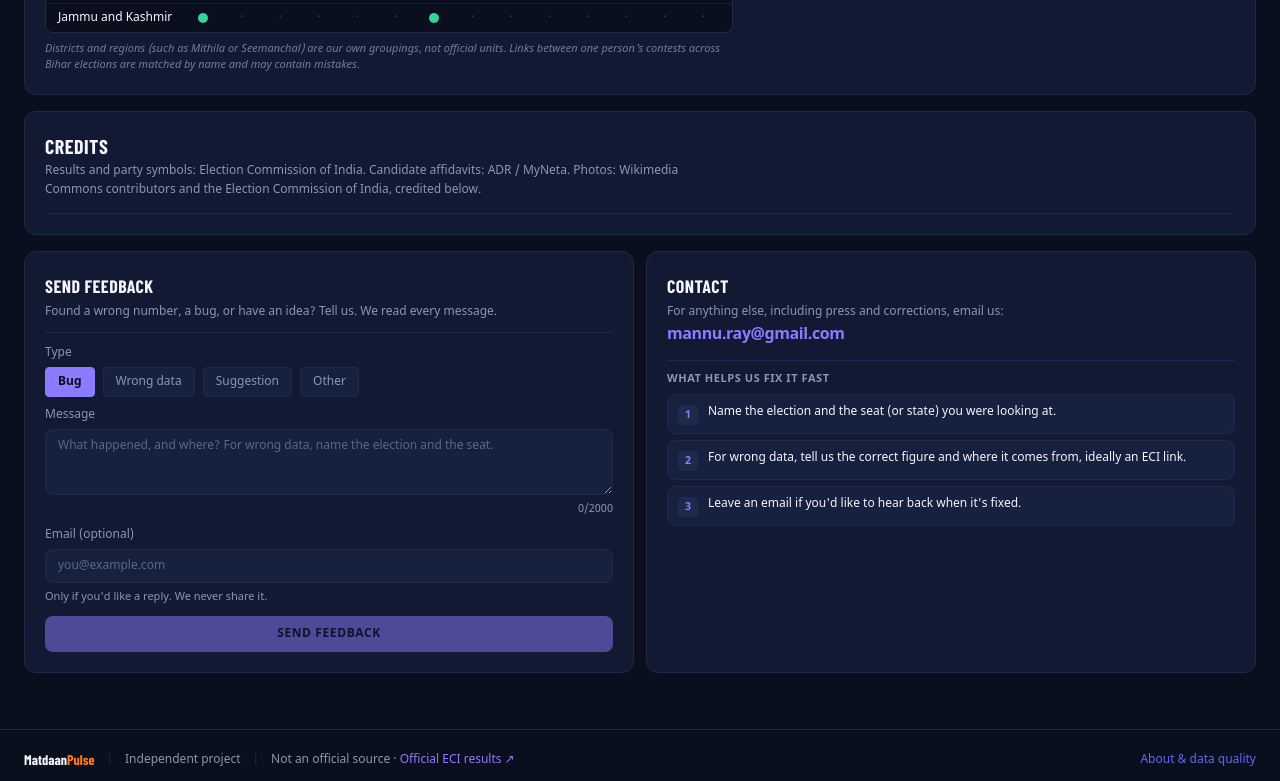
Scenario: About page › explains a rate limit
(page scrolled)
Replace the text in the text box labelled "Message 0/2000" with "Map does not load" at (329, 462), box [45, 428, 613, 494]
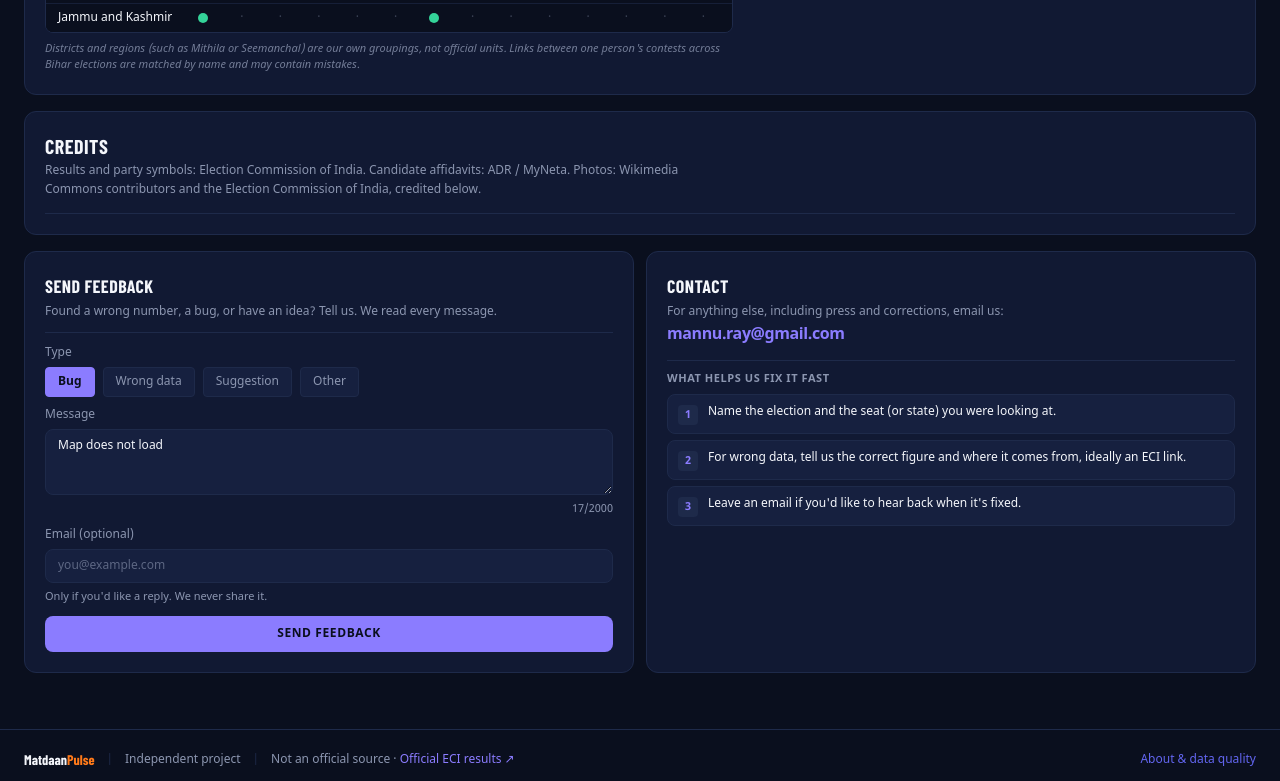
Click the button "Send feedback".
click(329, 634)  # box [45, 616, 613, 652]
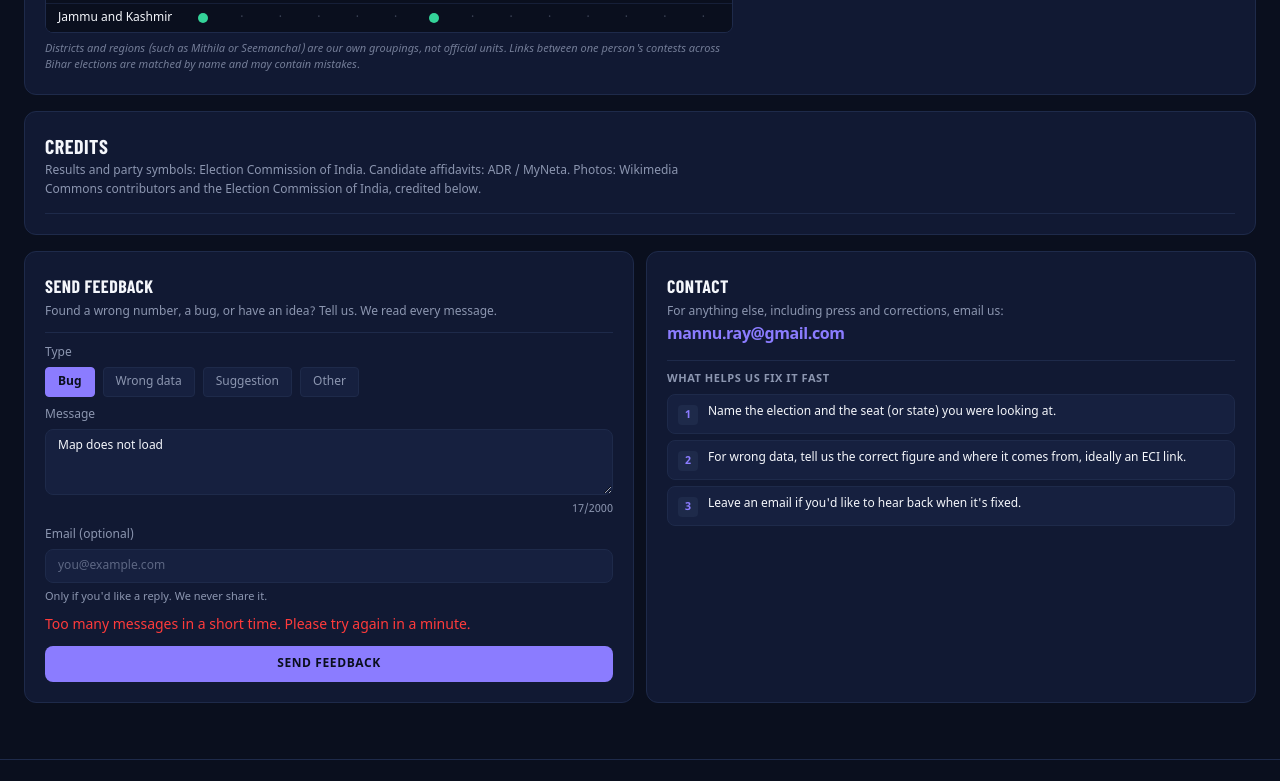
Now the message shows "try again in a minute", box [45, 616, 471, 634]
